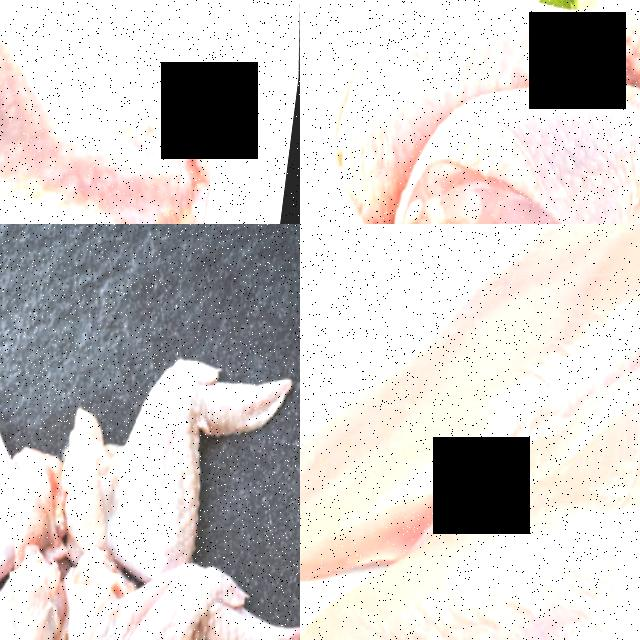chicken breast: (329, 459, 640, 640), (329, 224, 640, 381)
chicken thigh: (0, 0, 277, 224), (404, 57, 640, 224)
chicken wing: (51, 338, 300, 579), (64, 529, 300, 640), (0, 355, 81, 588)
